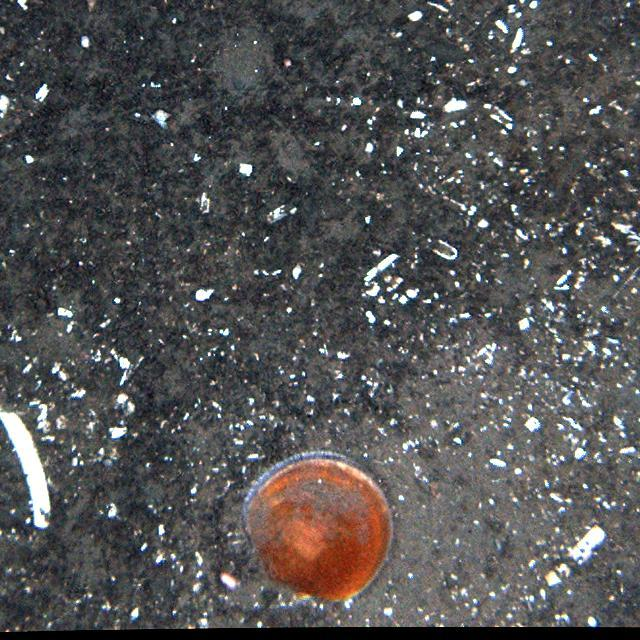scallop: (250, 440, 396, 616)
